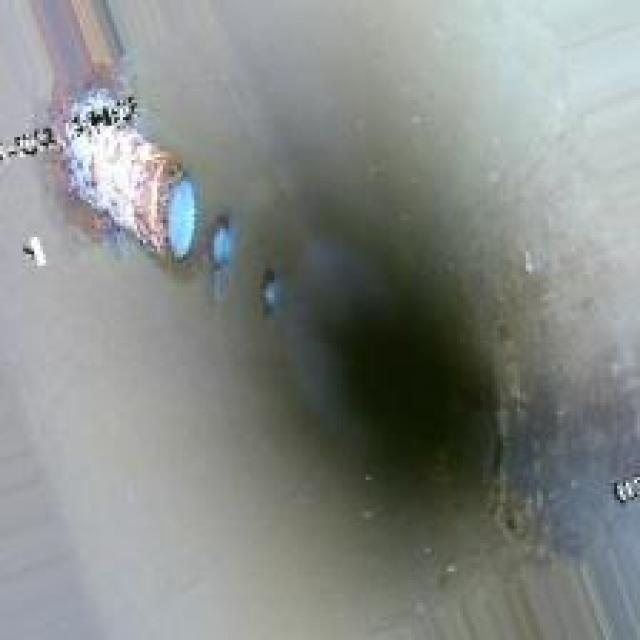ferrule: (66, 97, 197, 266), (248, 263, 288, 317), (206, 209, 237, 274)
